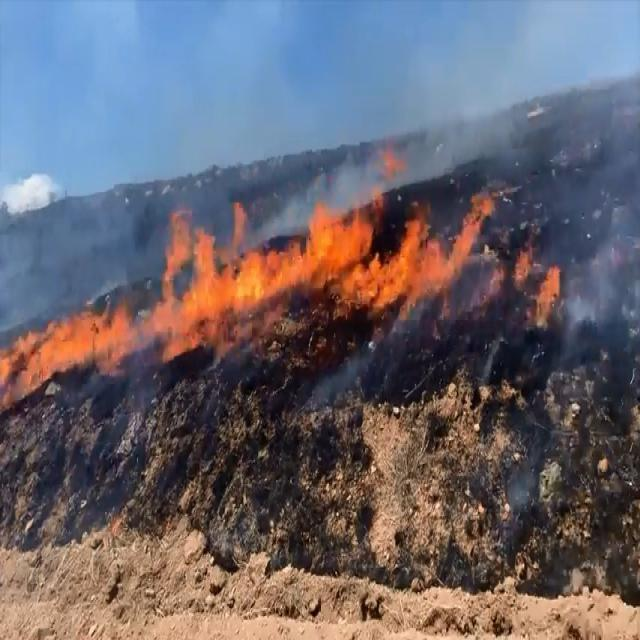Fire: (1, 193, 563, 402)
